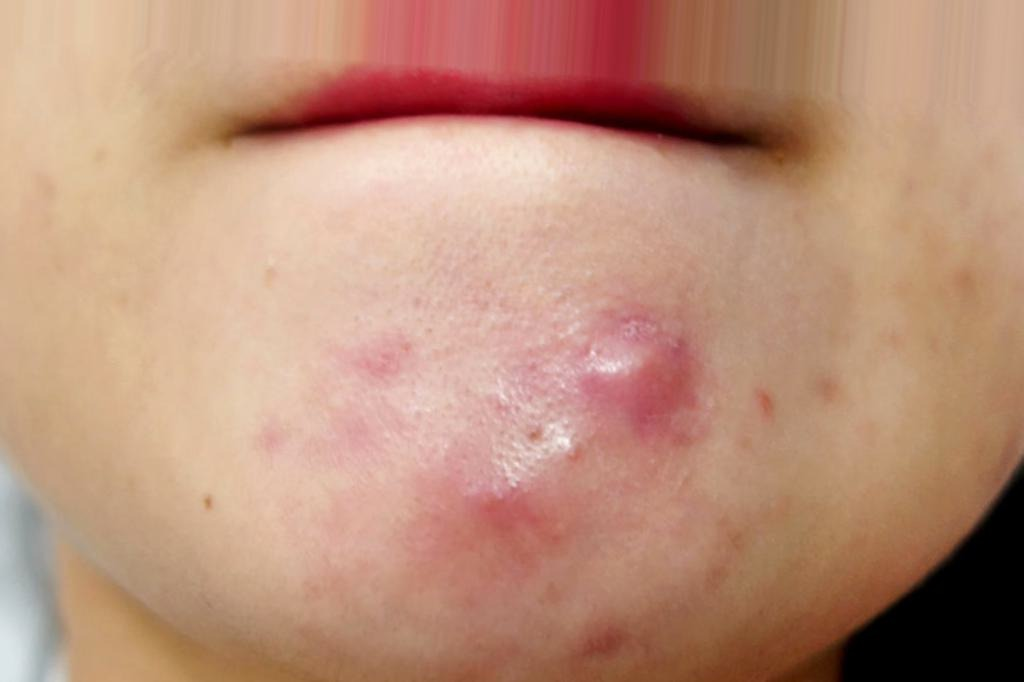Acne: (470, 446, 540, 524)
